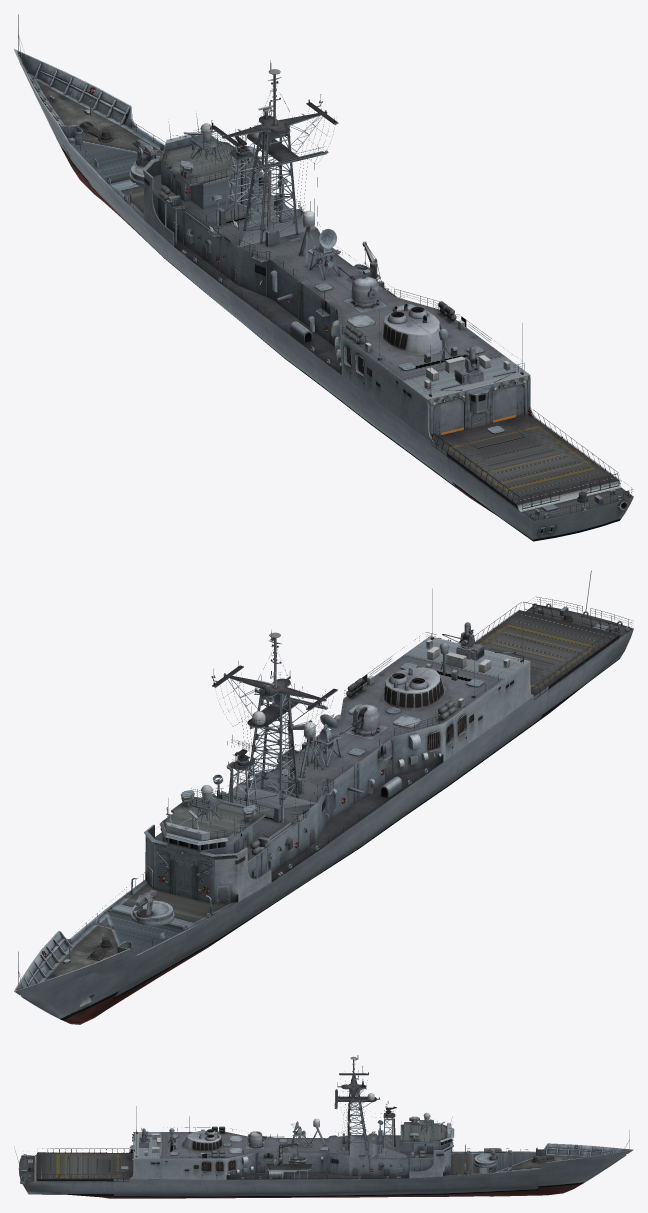
Rendered from type_perry.glb.
The picture shows the model from 3 angles, top to bottom: view 1: azimuth 30°, elevation 25°; view 2: azimuth 150°, elevation 25°; view 3: azimuth 270°, elevation 25°; orthographic projection. The views are drawn at different scales.
Parts seen in each view (by area): view 1: Object_9, Object_10, Object_5, Object_6, Object_4, Object_7, Object_3, Object_8; view 2: Object_4, Object_10, Object_6, Object_9, Object_7, Object_5, Object_3, Object_8; view 3: Object_4, Object_9, Object_5, Object_10, Object_6, Object_7, Object_3, Object_8.
Boxes of the visible parts, x1,y1,x2,y2 form: Object_9: (158,74,616,534); Object_10: (152,123,529,432); Object_5: (174,60,633,534); Object_6: (14,14,629,518); Object_4: (14,51,633,541); Object_7: (142,128,530,434); Object_3: (71,86,632,520); Object_8: (132,139,483,385); Object_4: (14,629,633,1024); Object_10: (155,636,529,898); Object_6: (14,603,629,996); Object_9: (211,588,620,878); Object_7: (144,636,529,904); Object_5: (212,570,633,881); Object_3: (75,596,632,949); Object_8: (133,622,484,917); Object_4: (21,1143,632,1198); Object_9: (21,1059,433,1179); Object_5: (14,1055,409,1184); Object_10: (133,1102,451,1175); Object_6: (19,1117,633,1180); Object_7: (121,1116,453,1178); Object_3: (23,1070,542,1181); Object_8: (139,1128,506,1160).
Size of the model in its own units: 15.08 by 34.45 by 136.
9 materials, 9 textured.
